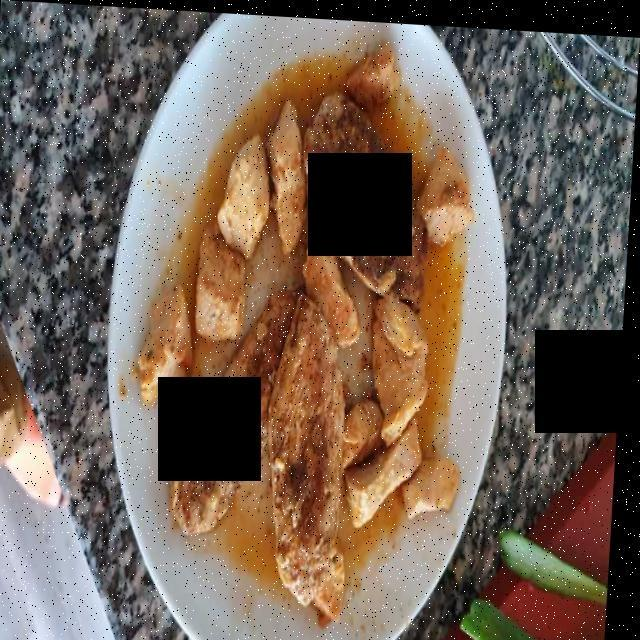chicken: (145, 56, 471, 613)
